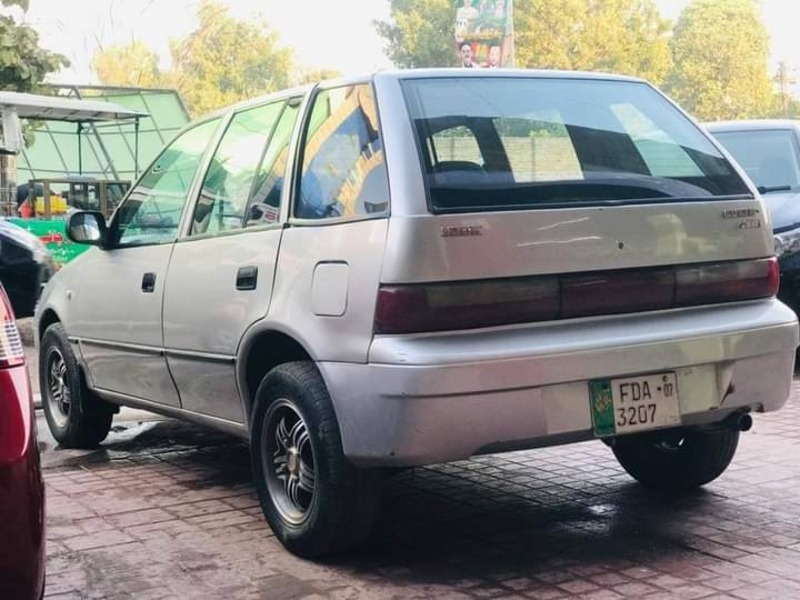License Plate: (589, 369, 686, 441)
